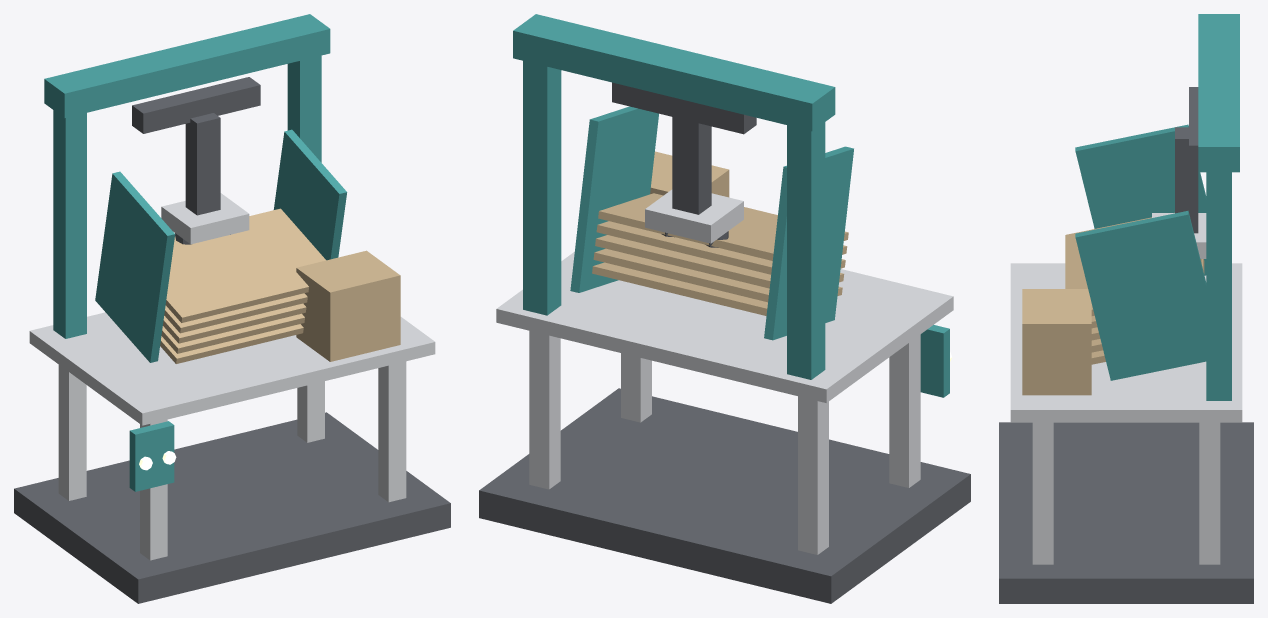
File: chocolate-and-confectionery-factory-carton-erector-08ce7a97__36785.glb
3 views of the same model, side by side, from view 1: azimuth 30°, elevation 25°; view 2: azimuth 150°, elevation 25°; view 3: azimuth 270°, elevation 25° (orthographic). The views are drawn at different scales.
Visible parts, largest first — view 1: carton-erector, arm-erector/dark, arm-erector/steel; view 2: carton-erector, arm-erector/dark, arm-erector/steel; view 3: carton-erector, arm-erector/dark, arm-erector/steel.
Part boxes in pixels (x1,y1,x2,y2): carton-erector: (14, 14, 450, 603); arm-erector/dark: (132, 77, 260, 244); arm-erector/steel: (161, 193, 249, 244); carton-erector: (479, 14, 970, 603); arm-erector/dark: (612, 82, 756, 247); arm-erector/steel: (645, 189, 743, 243); carton-erector: (999, 14, 1253, 603); arm-erector/dark: (1175, 87, 1198, 233); arm-erector/steel: (1152, 213, 1206, 258).
Bounding box in the file's own units: 1.6 × 2.12 × 1.1.
